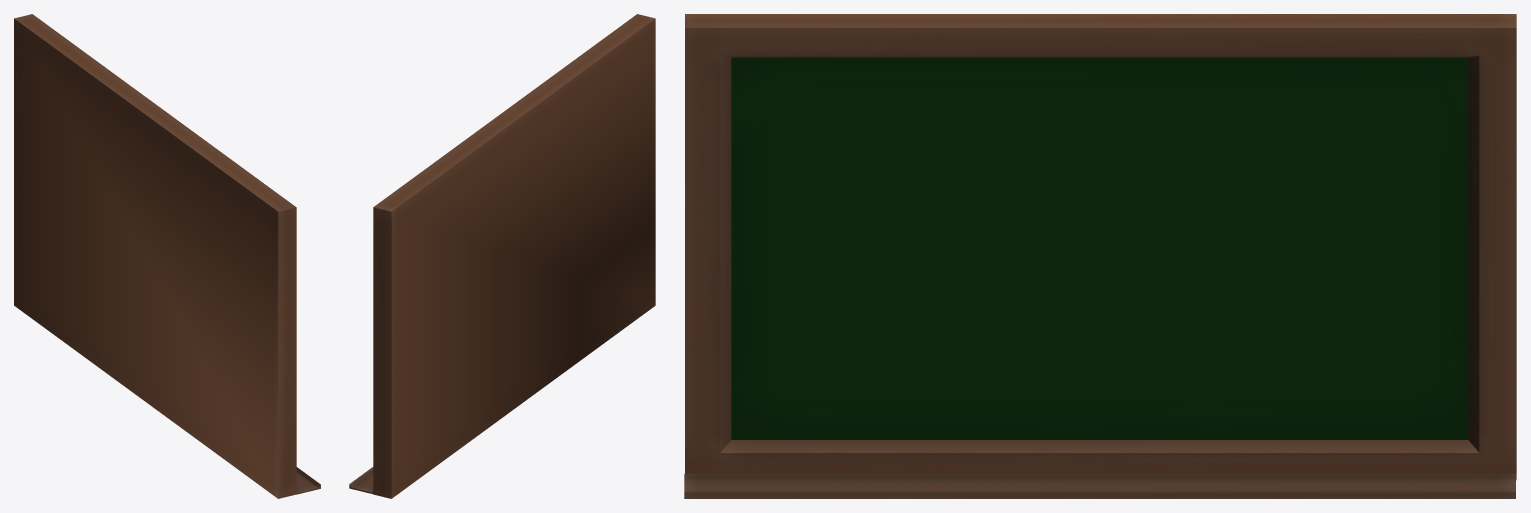
The model's file is BlackBoard.fbx.
3 renders of one model, left to right at view 1: azimuth 30°, elevation 25°; view 2: azimuth 150°, elevation 25°; view 3: azimuth 270°, elevation 25°, orthographic. The views are drawn at different scales.
Parts seen in each view (by area): view 1: Board; view 2: Board; view 3: Board.
Boxes of the visible parts, x1=… form: Board: x1=14, y1=14, x2=320, y2=498; Board: x1=349, y1=14, x2=655, y2=498; Board: x1=684, y1=14, x2=1516, y2=498.
Bounding box in the file's own units: 2.32 × 15 × 25.02.
Materials: 1 (1 with a texture image).
